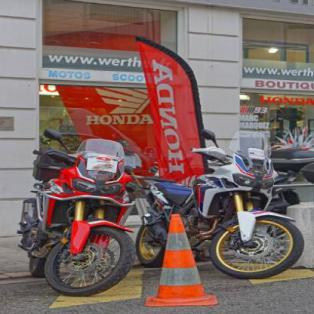Motocicleta: (12, 126, 147, 296), (156, 127, 304, 276)
